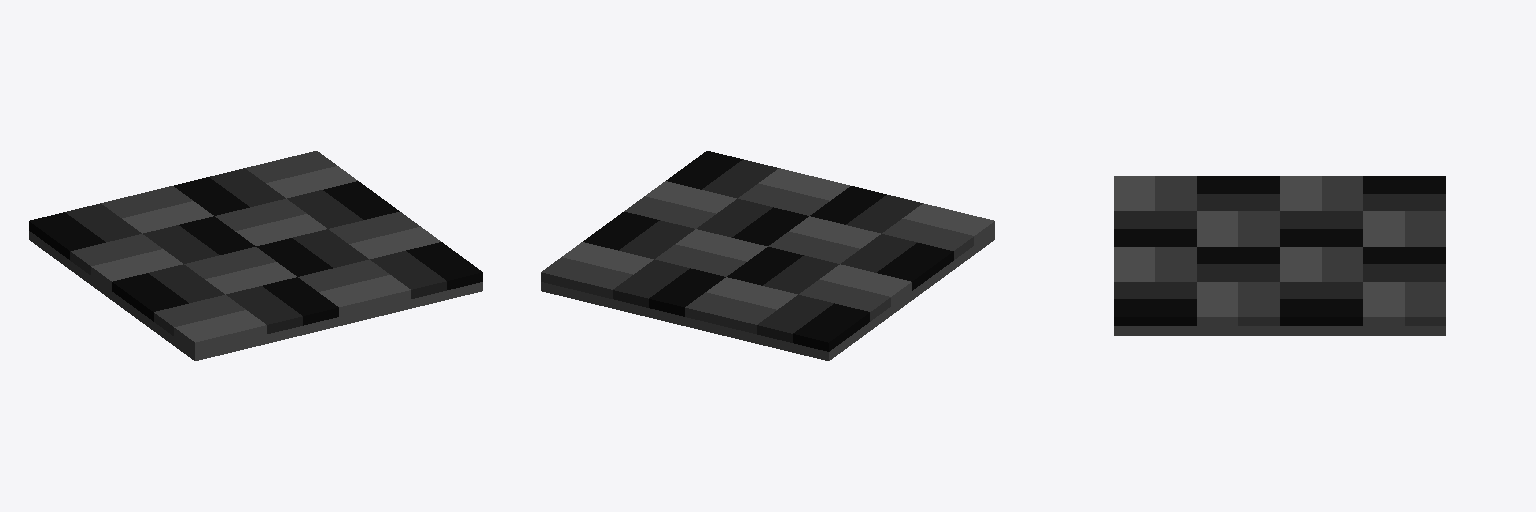
3 renders of one model, left to right at view 1: azimuth 30°, elevation 25°; view 2: azimuth 150°, elevation 25°; view 3: azimuth 270°, elevation 25°, orthographic.
Parts seen in each view (by area): view 1: object 1; view 2: object 1; view 3: object 1.
Boxes of the visible parts, x1=… form: object 1: x1=29, y1=151, x2=482, y2=360; object 1: x1=541, y1=151, x2=994, y2=360; object 1: x1=1114, y1=176, x2=1445, y2=335.
Bounding box in the file's own units: 3.2 × 0.2 × 3.2.
Materials: 1 (1 with a texture image).